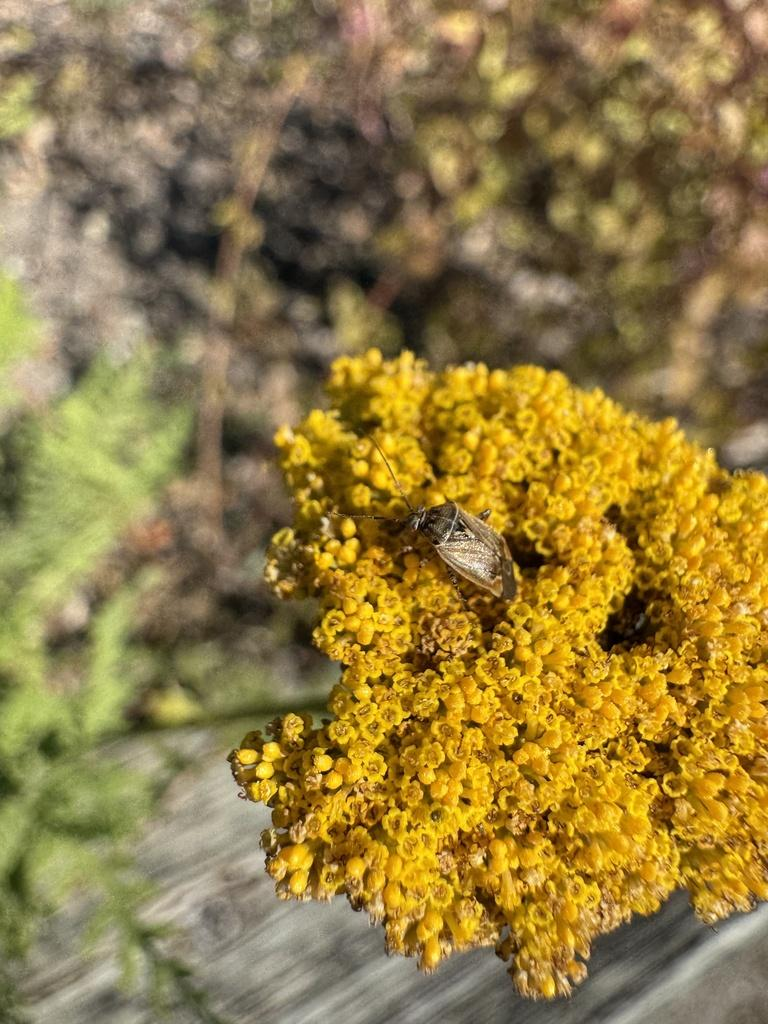plant_bugs: (316, 421, 556, 640)
